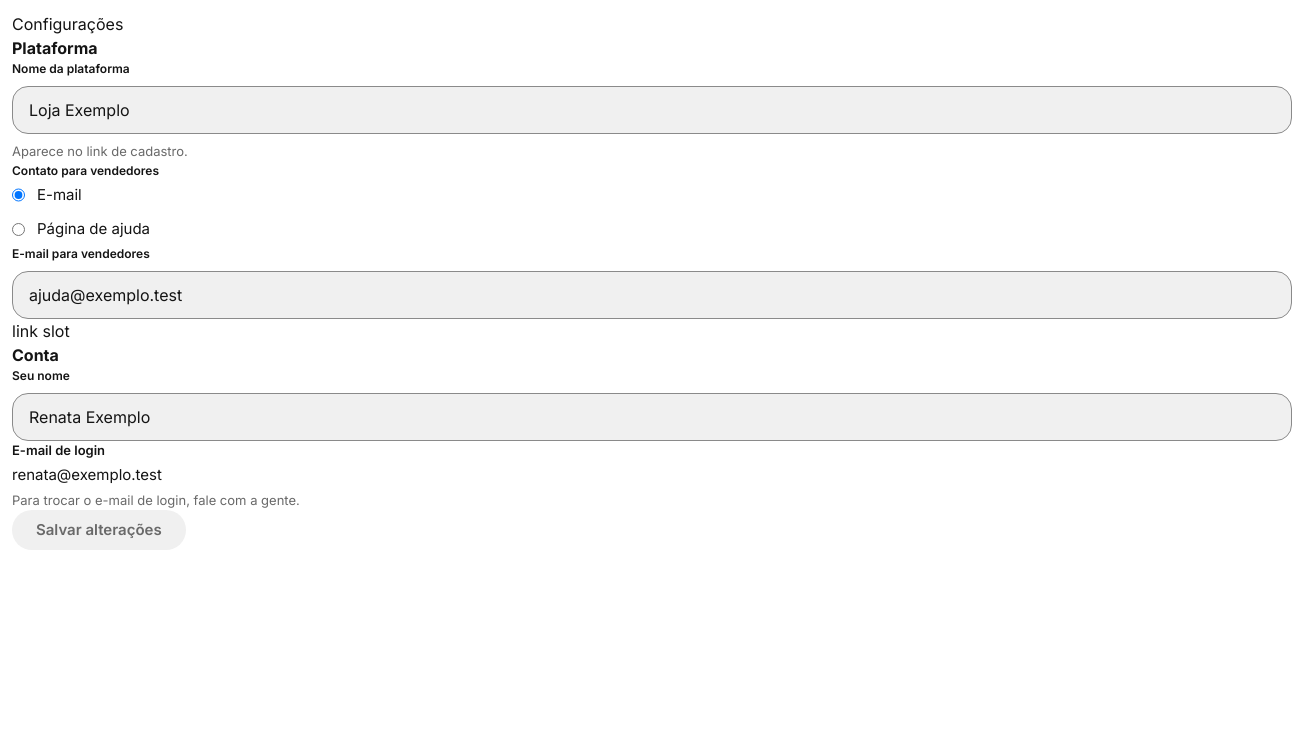
Test: SettingsForm (T135, AC 60) › enables the save only when dirty, and reports the draft
Expected: the button "Salvar alterações" is disabled, [12,510,186,550]
Step 1. Type " Nova" into the field labelled "Nome da plataforma" → (652, 110), box [12,86,1292,134]
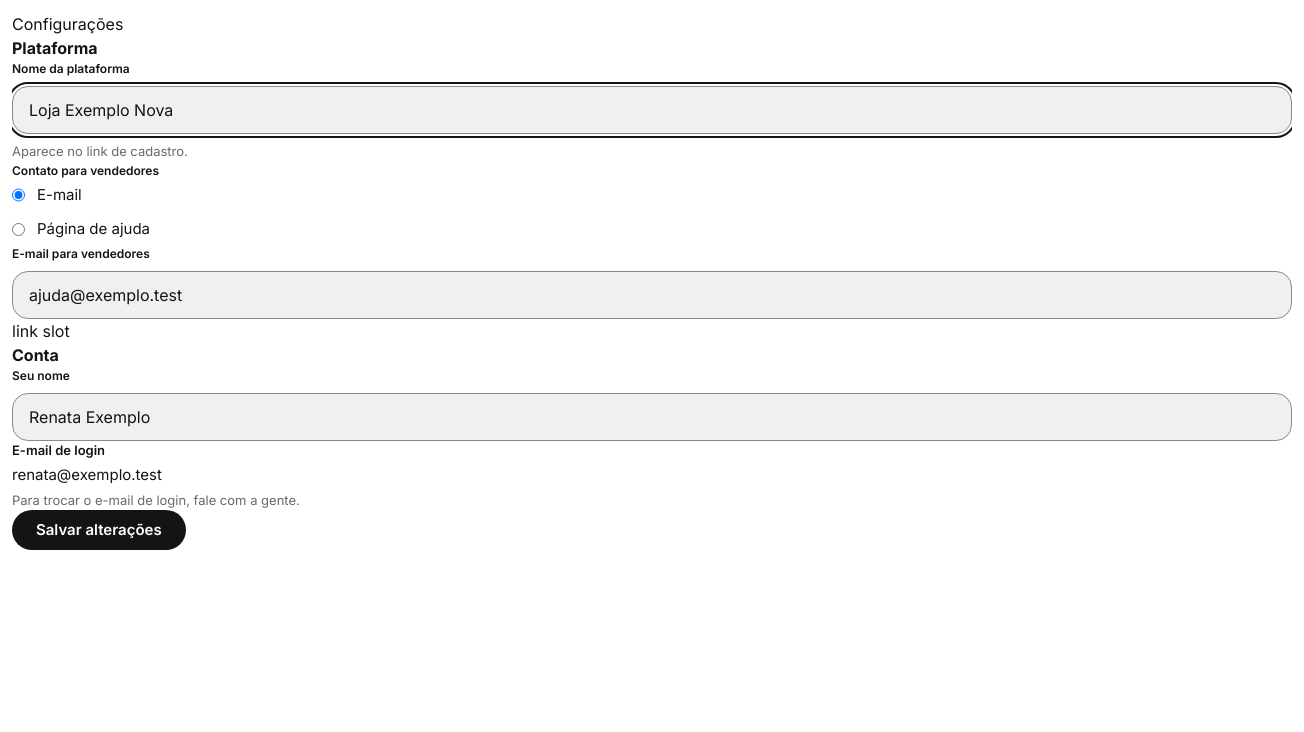
Now the button "Salvar alterações" is enabled, box [12,510,186,550]
Step 2. Replace the text in the field labelled "Nome da plataforma" with "Loja Exemplo" → (652, 110), box [12,86,1292,134]
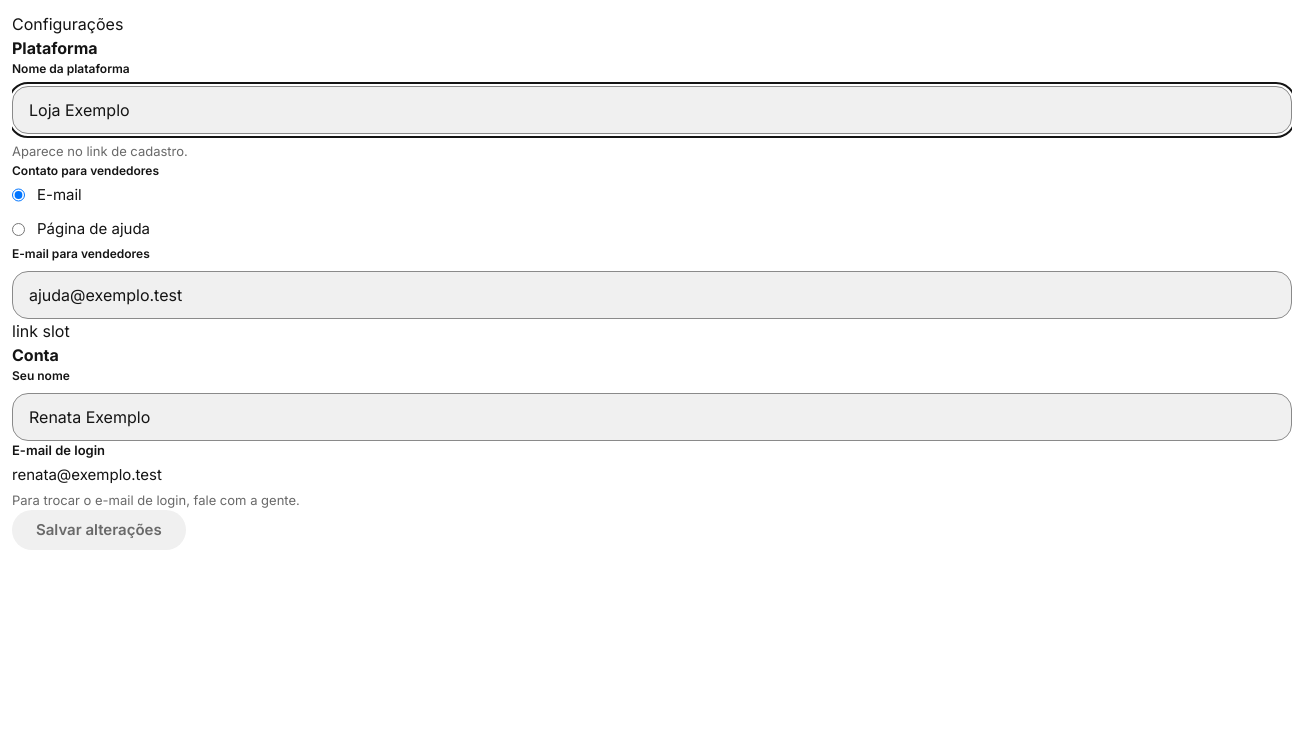
Now the button "Salvar alterações" is disabled, box [12,510,186,550]
